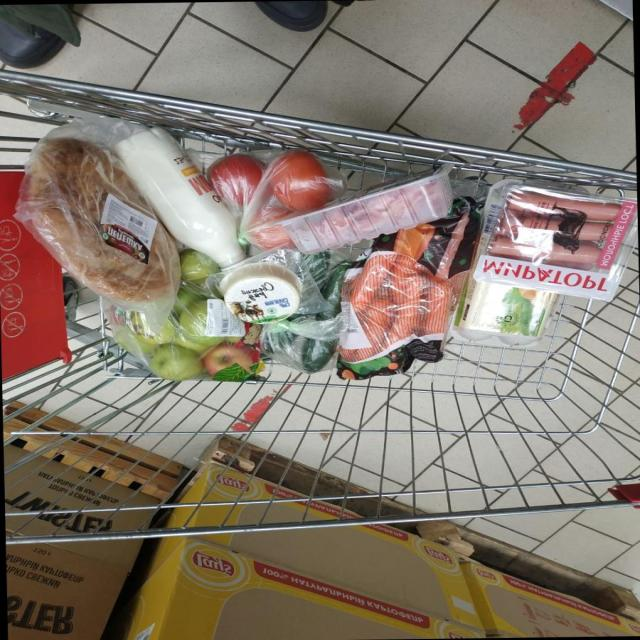Apple: (178, 299, 224, 346), (148, 344, 202, 379), (112, 323, 157, 363), (203, 342, 257, 375), (128, 311, 175, 344), (180, 249, 219, 285), (171, 328, 210, 353), (172, 285, 202, 314)
Bread: (15, 137, 180, 302)
Carrot: (386, 273, 424, 345), (350, 254, 393, 310), (353, 298, 389, 358), (418, 275, 451, 335), (390, 254, 415, 305)
Cheese: (220, 263, 301, 322)
Cucumber: (315, 263, 349, 319), (300, 337, 336, 372), (260, 329, 297, 356), (301, 251, 328, 287), (288, 314, 300, 319)
Eggs: (452, 278, 558, 344)
Meat: (280, 165, 452, 252)
Milk: (113, 126, 246, 267)
Sausages: (472, 179, 638, 300)
Tomatoes: (271, 150, 331, 211), (206, 153, 265, 207), (245, 202, 291, 249)
